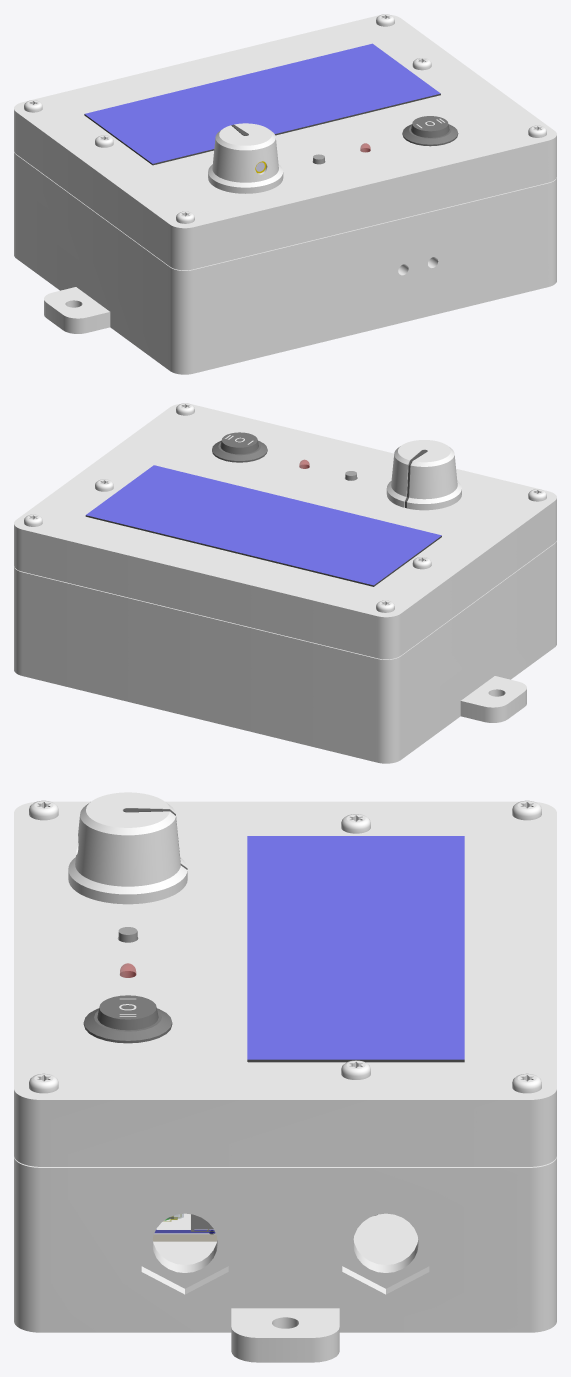
File: Elektronik-Box.gltf
3 renders of one model, top to bottom at view 1: azimuth 30°, elevation 25°; view 2: azimuth 150°, elevation 25°; view 3: azimuth 270°, elevation 25°, orthographic. The views are drawn at different scales.
Visible parts, largest first — view 1: Box, Front-Panrl_1, ID537, group_5, group_19, ID125, ID78, group_6; view 2: Box, Front-Panrl_1, ID537, group_5, group_19, ID78, ID125, group_6; view 3: Front-Panrl_1, Box, group_5, ID537, group_19, ID829, ID889, ID877, ID125, group_6, ID78, ID1442.
Part boxes in pixels (x1,y1,x2,y2): Box: (14,152,556,374); Front-Panrl_1: (14,15,556,228); ID537: (14,27,556,270); group_5: (85,43,440,163); group_19: (208,123,283,193); ID125: (411,116,449,137); ID78: (84,93,440,165); group_6: (402,124,458,146); Box: (14,541,556,763); Front-Panrl_1: (14,404,556,617); ID537: (14,407,556,659); group_5: (86,465,441,585); group_19: (386,440,461,510); ID78: (85,515,441,586); ID125: (220,432,258,454); group_6: (212,440,267,462); Front-Panrl_1: (14,801,556,1099); Box: (14,1157,556,1362); group_5: (247,836,464,1059); ID537: (14,806,556,1166); group_19: (68,792,187,904); ID829: (153,1213,418,1264); ID889: (141,1203,228,1294); ID877: (342,1203,429,1294); ID125: (97,995,158,1030); group_6: (83,1008,172,1043); ID78: (247,1059,464,1062); ID1442: (154,1213,215,1234).
Size of the model in its own units: 0.156 by 0.0618 by 0.1.
405 materials, 3 textured.
